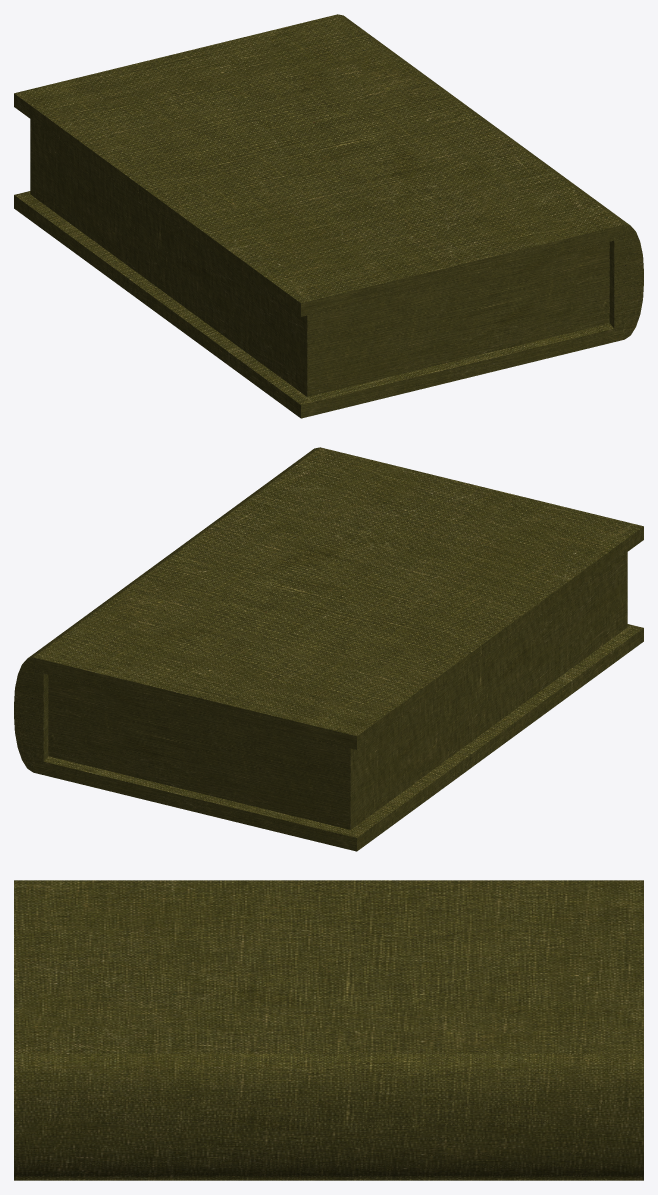
File: Libro 2.fbx
3 views of the same model, one above another, from view 1: azimuth 30°, elevation 25°; view 2: azimuth 150°, elevation 25°; view 3: azimuth 270°, elevation 25° (orthographic). The views are drawn at different scales.
Visible parts, largest first — view 1: Cube.069; view 2: Cube.069; view 3: Cube.069.
Part boxes in pixels (bbox=[...]): Cube.069: bbox=[14, 14, 643, 418]; Cube.069: bbox=[14, 447, 643, 851]; Cube.069: bbox=[14, 880, 643, 1180].
Bounding box in the file's own units: 19.8 × 6.36 × 28.71.
